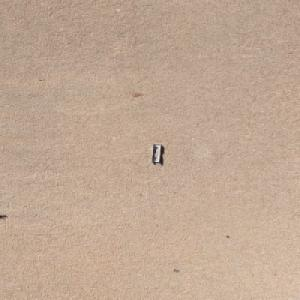ClampPart: (150, 143, 162, 163)
